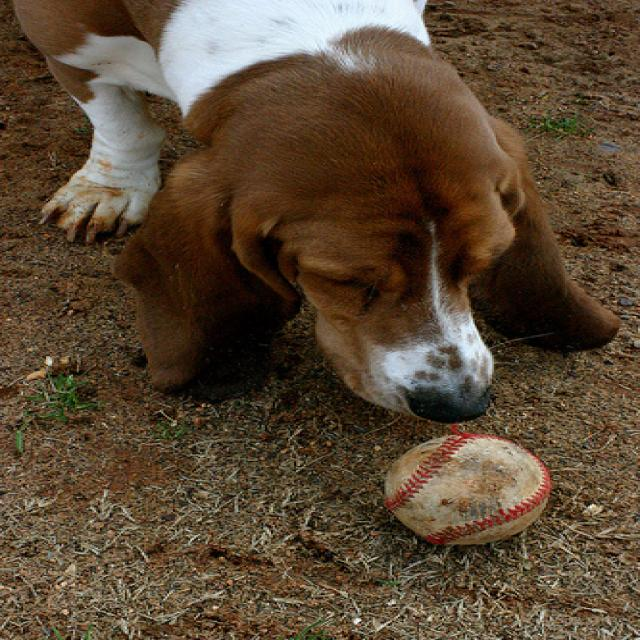dog-basset_hound: (2, 1, 627, 424)
